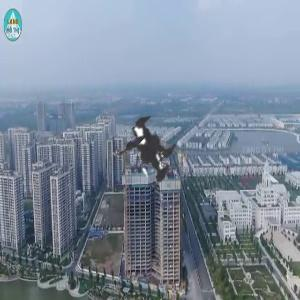drone: (35, 32, 258, 255)
